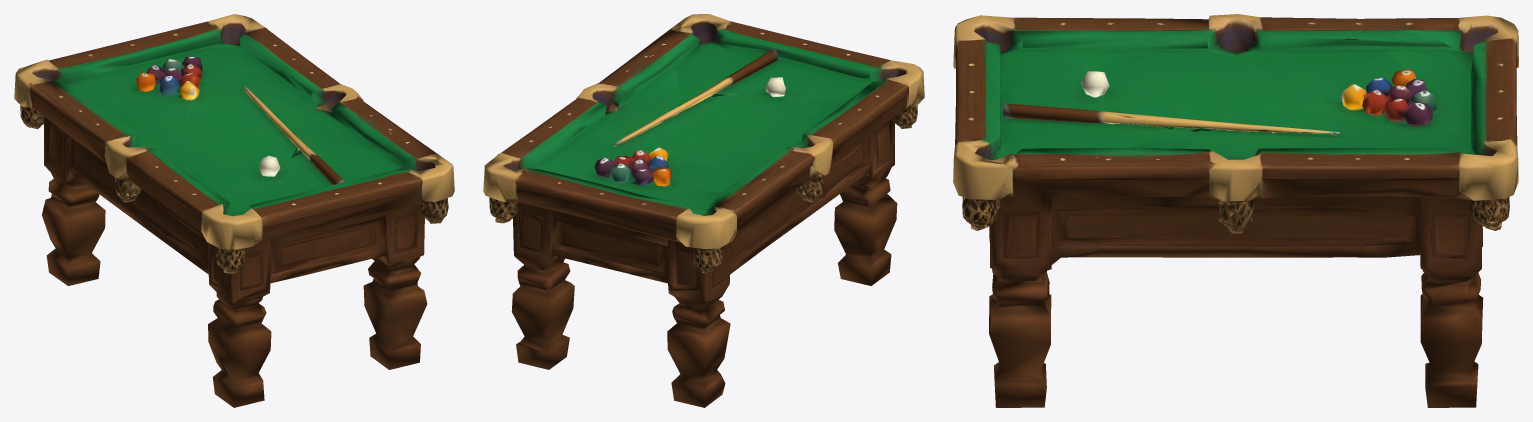
Rendered from pool.glb.
The picture shows the model from 3 angles, left to right: view 1: azimuth 30°, elevation 25°; view 2: azimuth 150°, elevation 25°; view 3: azimuth 270°, elevation 25°; orthographic projection. The views are drawn at different scales.
Parts seen in each view (by area): view 1: tripo_node_bd782d01-0a48-4286-9efe-58e0fcc5afb1; view 2: tripo_node_bd782d01-0a48-4286-9efe-58e0fcc5afb1; view 3: tripo_node_bd782d01-0a48-4286-9efe-58e0fcc5afb1.
Part boxes in pixels (x1,y1,x2,y2): tripo_node_bd782d01-0a48-4286-9efe-58e0fcc5afb1: (14,14,454,407); tripo_node_bd782d01-0a48-4286-9efe-58e0fcc5afb1: (483,14,924,407); tripo_node_bd782d01-0a48-4286-9efe-58e0fcc5afb1: (953,14,1518,407).
Bounding box in the file's own units: 0.6373 × 0.5063 × 0.9763.
1 material, 1 textured.
